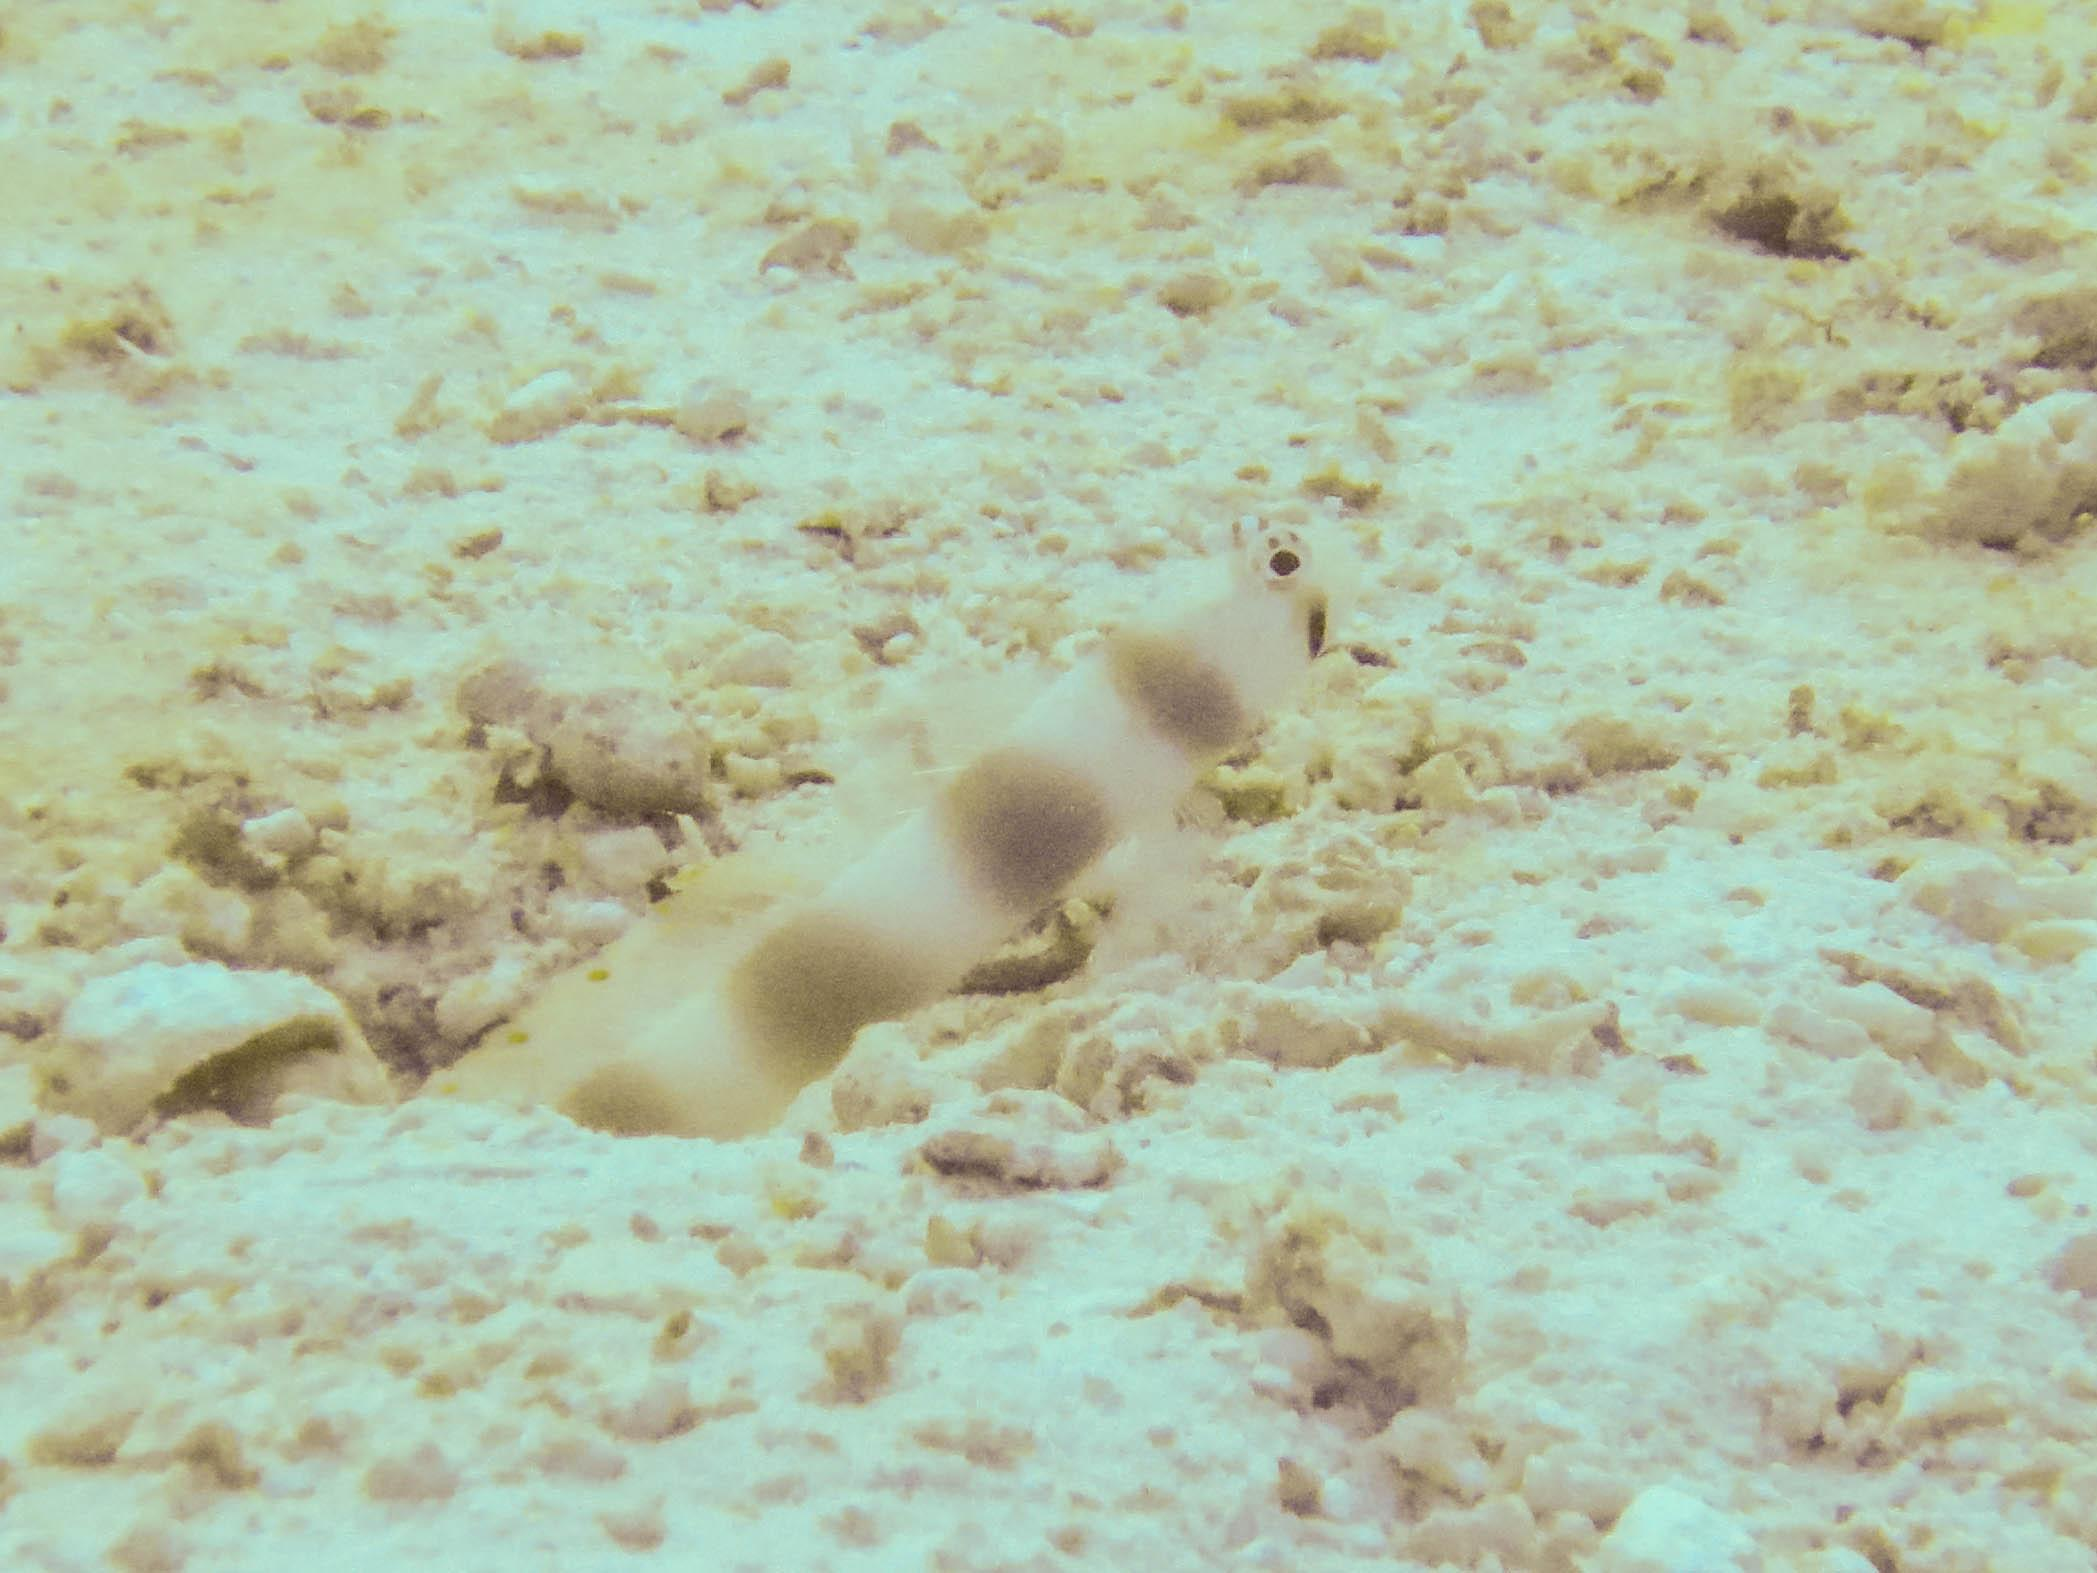Fish: (491, 478, 1436, 1238)
